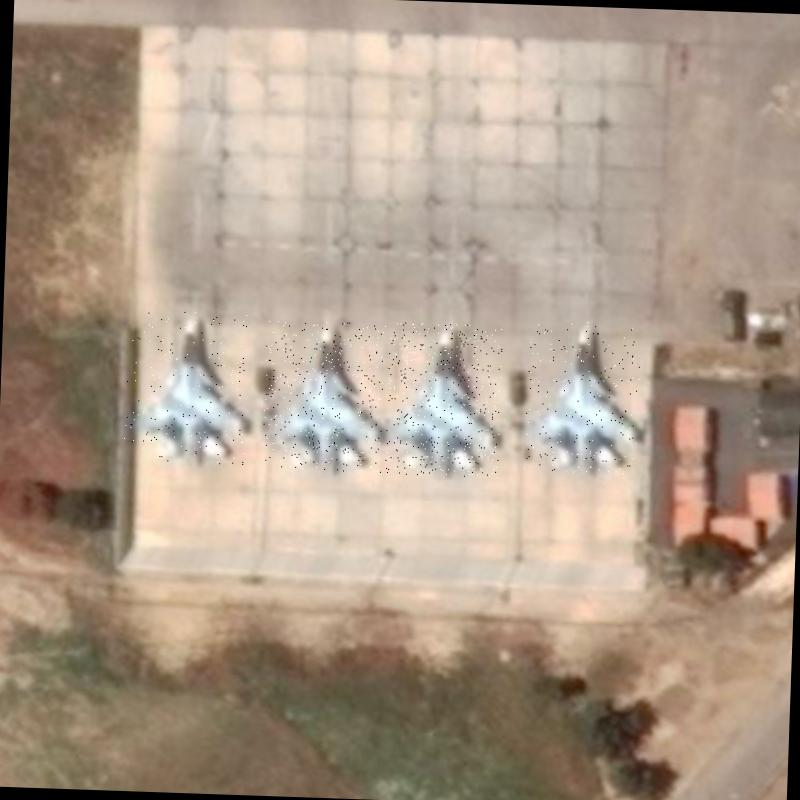A19: (123, 308, 250, 466), (262, 320, 386, 472), (384, 322, 502, 478), (524, 320, 642, 474)
